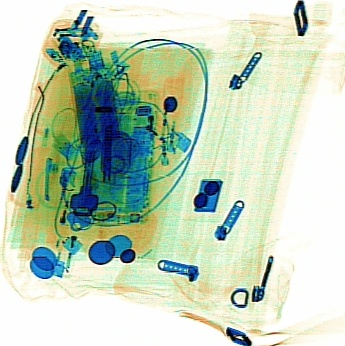lighter: (47, 199, 90, 278), (154, 77, 184, 168), (45, 168, 74, 249)
powerbank: (65, 56, 124, 162)
